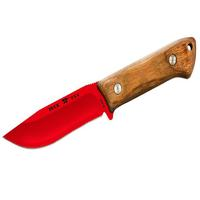knife: (2, 32, 198, 153)
